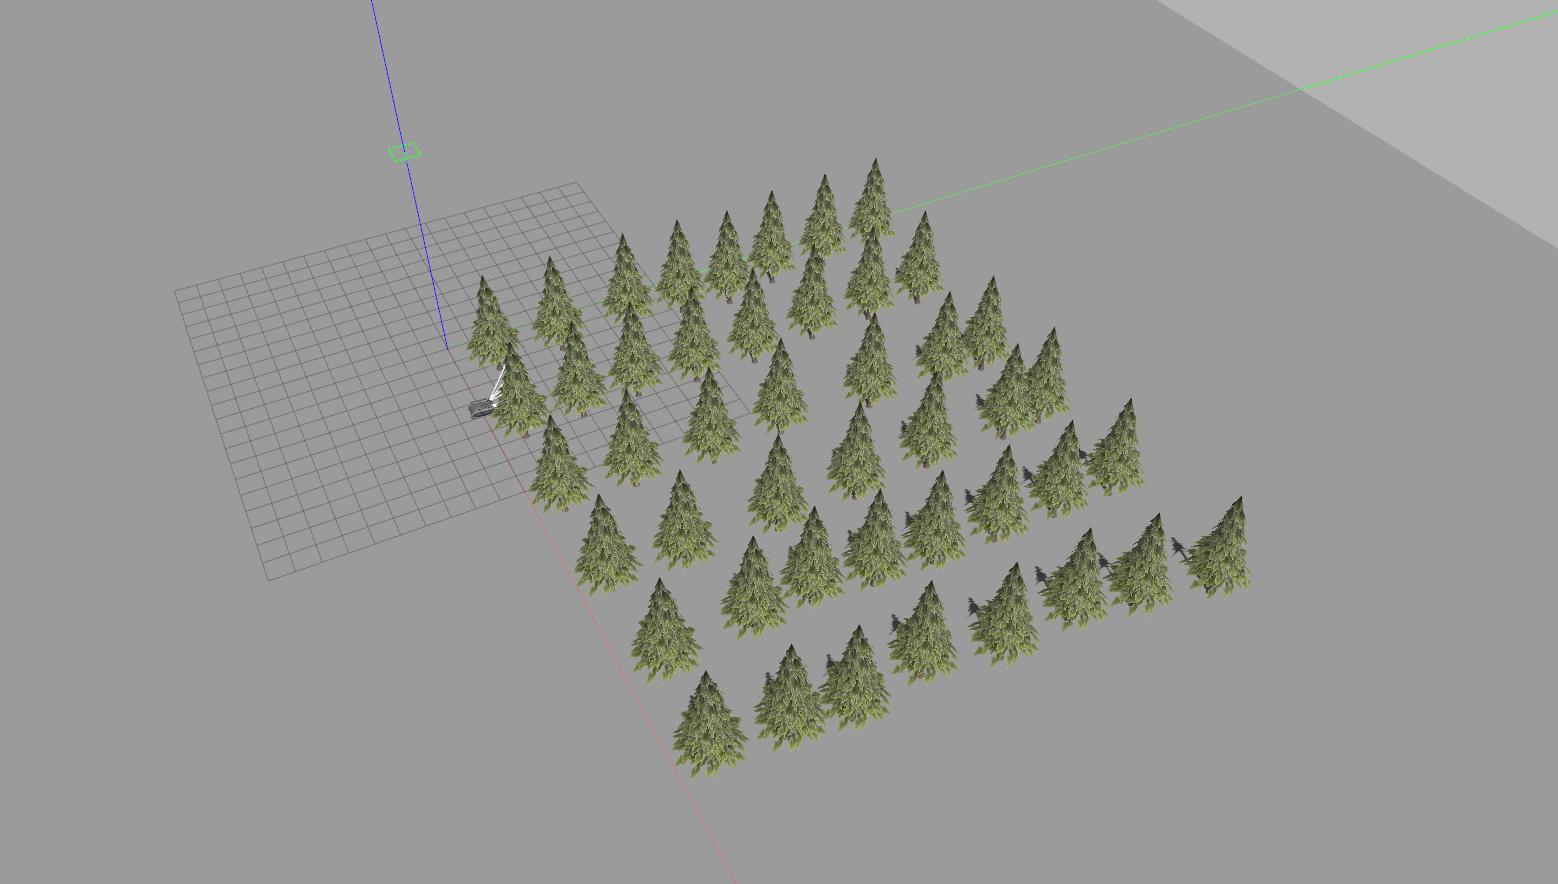tree_gazebo: (672, 672, 746, 776), (630, 581, 700, 680), (575, 496, 639, 593), (654, 472, 715, 569), (530, 417, 591, 512), (606, 390, 660, 486), (493, 350, 548, 438), (551, 329, 606, 415), (728, 271, 779, 362), (465, 277, 517, 365), (895, 213, 944, 303), (670, 295, 721, 380), (609, 314, 663, 393), (703, 213, 749, 303), (602, 234, 652, 318), (533, 259, 581, 344), (749, 192, 794, 281), (789, 253, 837, 336), (657, 223, 703, 304), (846, 234, 891, 317), (849, 158, 895, 238), (800, 177, 843, 257)
